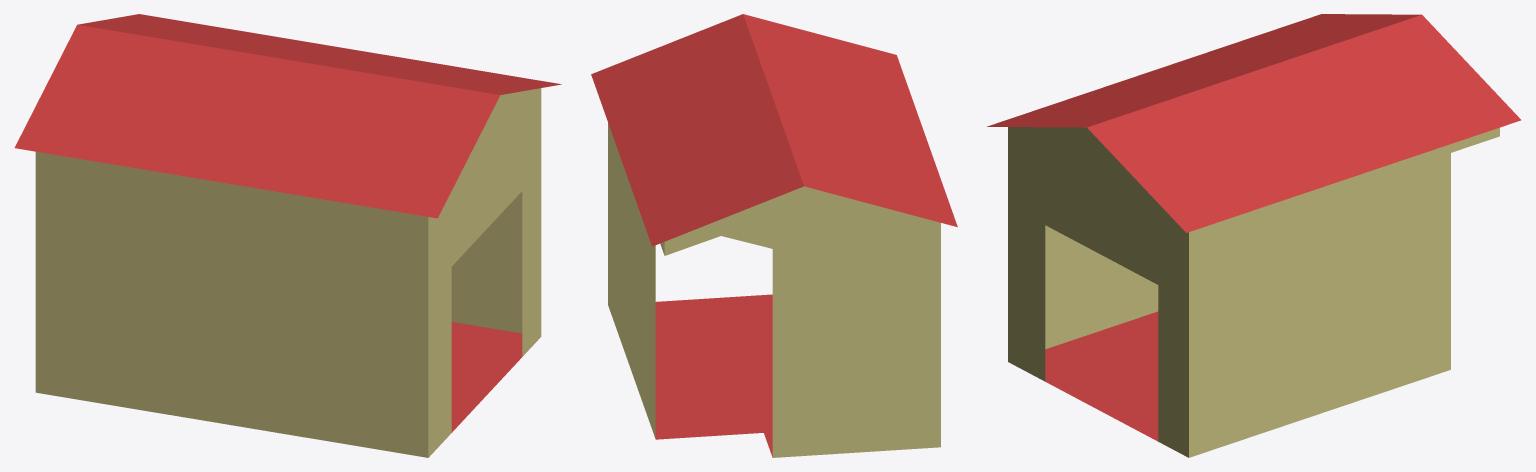
The picture shows the model from 3 angles, left to right: view 1: azimuth 30°, elevation 25°; view 2: azimuth 150°, elevation 25°; view 3: azimuth 270°, elevation 25°; orthographic projection. The views are drawn at different scales.
Bounding box in the file's own units: 16.76 × 17.32 × 10.23.
